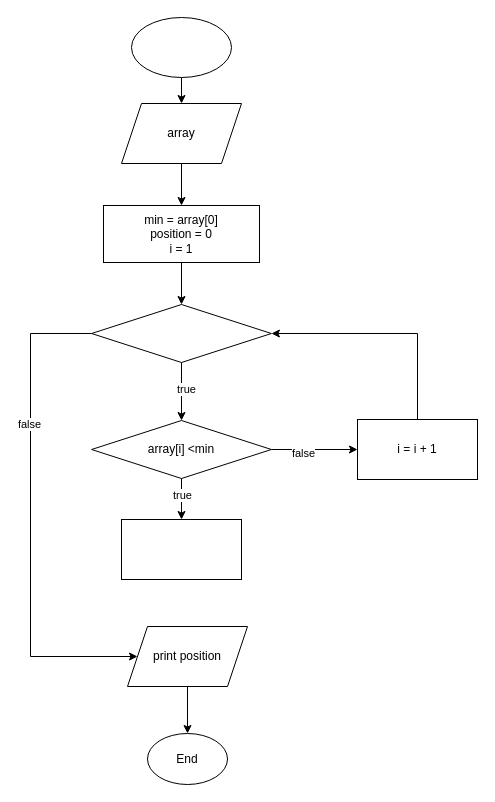
The diagram is 495 pixels wide and 802 high, and some of its shapes have lost their labels. The shapes that lost their labels are listed below. From the top down, each one's box as (x1, y1, x2, y2) in pixels, then its label:
(130, 16, 232, 78): Start
(91, 304, 271, 362): i < array.length
(120, 518, 242, 580): min = array[i] position = i
